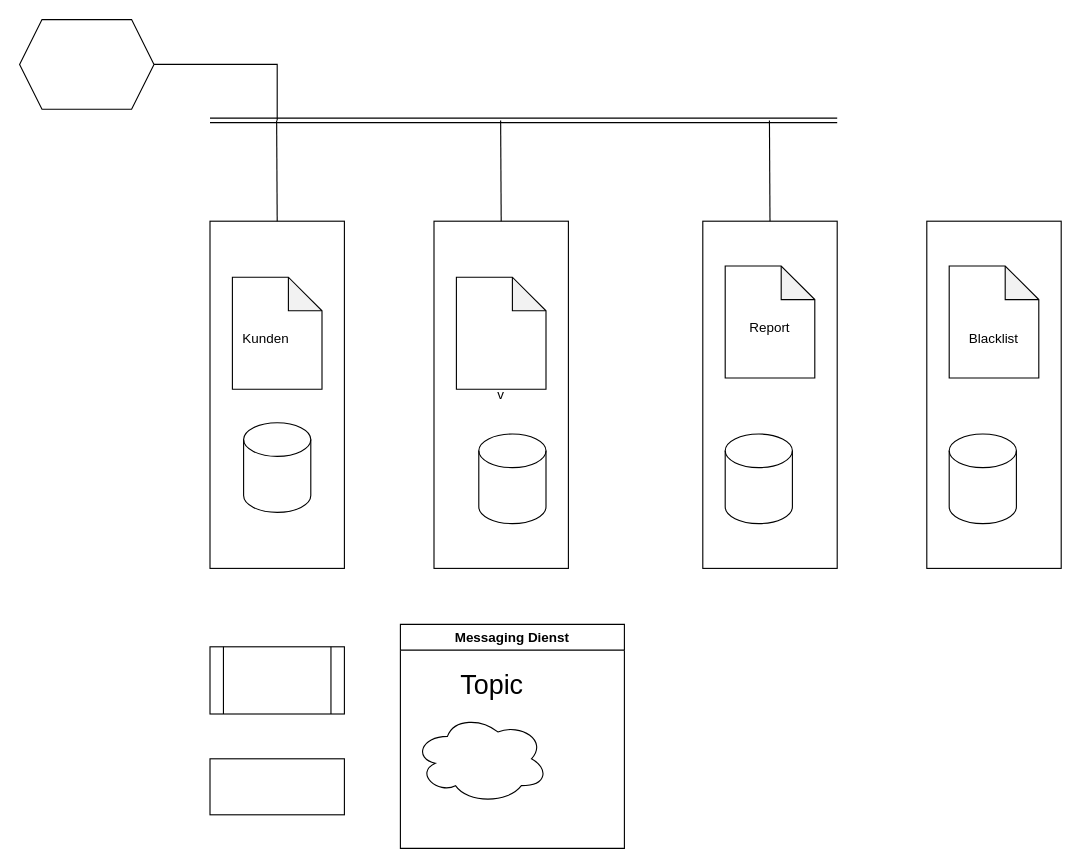
Some shapes in this 1081 by 868 pixel diagram are drawn without their labels. The centre of each missing label's shape, as x and y in pixels:
"Bestellung" goes at (x=500, y=332).
"Fullpayload" goes at (x=276, y=680).
"NUR ID" goes at (x=276, y=786).
